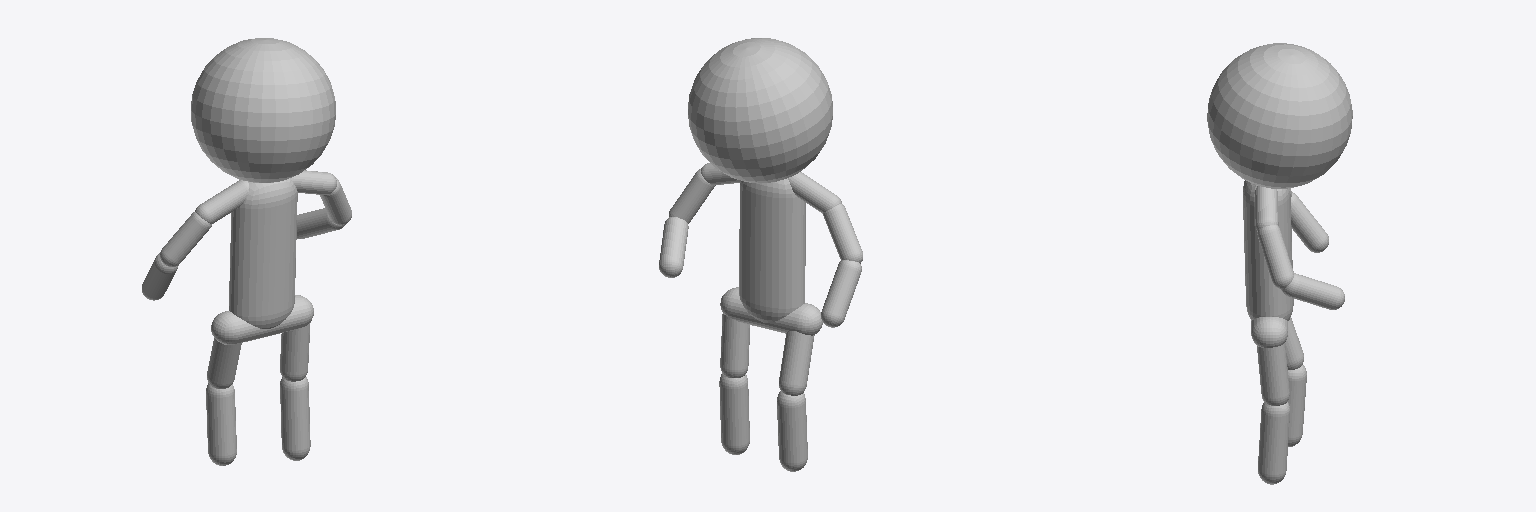
Rendered from Stickman_000037.obj.
3 views of the same model, side by side, from view 1: azimuth 30°, elevation 25°; view 2: azimuth 150°, elevation 25°; view 3: azimuth 270°, elevation 25° (orthographic).
Parts seen in each view (by area): view 1: Head_Sphere.001, Body_Roundcube.002, LowerLegLeft_Roundcube.013, LowerLegRight_Roundcube.011, Hip_Roundcube.005, UpperLegLeft_Roundcube.012, UpperArmRight_Roundcube.015, UpperLegRight_Roundcube.010, ShoulderRight_Roundcube.014, LowerArmRight_Roundcube.016, LowerArmLeft_Roundcube.019, ShoulderLeft_Roundcube.017 (+1 smaller); view 2: Head_Sphere.001, Body_Roundcube.002, LowerLegLeft_Roundcube.013, LowerLegRight_Roundcube.011, Hip_Roundcube.005, UpperLegRight_Roundcube.010, LowerArmRight_Roundcube.016, UpperLegLeft_Roundcube.012, LowerArmLeft_Roundcube.019, UpperArmRight_Roundcube.015, UpperArmLeft_Roundcube.018, ShoulderRight_Roundcube.014; view 3: Head_Sphere.001, Body_Roundcube.002, LowerLegLeft_Roundcube.013, UpperLegLeft_Roundcube.012, UpperArmLeft_Roundcube.018, LowerArmLeft_Roundcube.019, LowerArmRight_Roundcube.016, LowerLegRight_Roundcube.011, Hip_Roundcube.005, ShoulderLeft_Roundcube.017, UpperLegRight_Roundcube.010.
Boxes of the visible parts, box(x1,y1,x2,y2) form: Head_Sphere.001: box(191, 38, 335, 182); Body_Roundcube.002: box(229, 178, 297, 328); LowerLegLeft_Roundcube.013: box(280, 377, 310, 460); LowerLegRight_Roundcube.011: box(206, 383, 236, 465); Hip_Roundcube.005: box(211, 295, 313, 344); UpperLegLeft_Roundcube.012: box(280, 322, 310, 381); UpperArmRight_Roundcube.015: box(160, 212, 211, 266); UpperLegRight_Roundcube.010: box(207, 338, 241, 388); ShoulderRight_Roundcube.014: box(195, 180, 248, 223); LowerArmRight_Roundcube.016: box(142, 253, 178, 300); LowerArmLeft_Roundcube.019: box(297, 208, 345, 238); ShoulderLeft_Roundcube.017: box(291, 170, 336, 194); Head_Sphere.001: box(688, 38, 832, 183); Body_Roundcube.002: box(739, 178, 805, 322); LowerLegLeft_Roundcube.013: box(719, 374, 749, 454); LowerLegRight_Roundcube.011: box(777, 391, 807, 471); Hip_Roundcube.005: box(720, 287, 822, 335); UpperLegRight_Roundcube.010: box(779, 331, 814, 395); LowerArmRight_Roundcube.016: box(821, 260, 861, 327); UpperLegLeft_Roundcube.012: box(720, 314, 749, 377); LowerArmLeft_Roundcube.019: box(659, 217, 688, 277); UpperArmRight_Roundcube.015: box(823, 204, 862, 263); UpperArmLeft_Roundcube.018: box(669, 169, 715, 223); ShoulderRight_Roundcube.014: box(788, 172, 841, 213); Head_Sphere.001: box(1207, 43, 1352, 188); Body_Roundcube.002: box(1243, 180, 1293, 320); LowerLegLeft_Roundcube.013: box(1258, 402, 1289, 484); UpperLegLeft_Roundcube.012: box(1257, 343, 1289, 405); UpperArmLeft_Roundcube.018: box(1257, 225, 1293, 288); LowerArmLeft_Roundcube.019: box(1281, 273, 1344, 309); LowerArmRight_Roundcube.016: box(1291, 192, 1328, 252); LowerLegRight_Roundcube.011: box(1287, 365, 1306, 446); Hip_Roundcube.005: box(1251, 317, 1287, 347); ShoulderLeft_Roundcube.017: box(1255, 186, 1278, 231); UpperLegRight_Roundcube.010: box(1285, 317, 1303, 369).
Bounding box in the file's own units: 5.45 × 11.34 × 3.58.